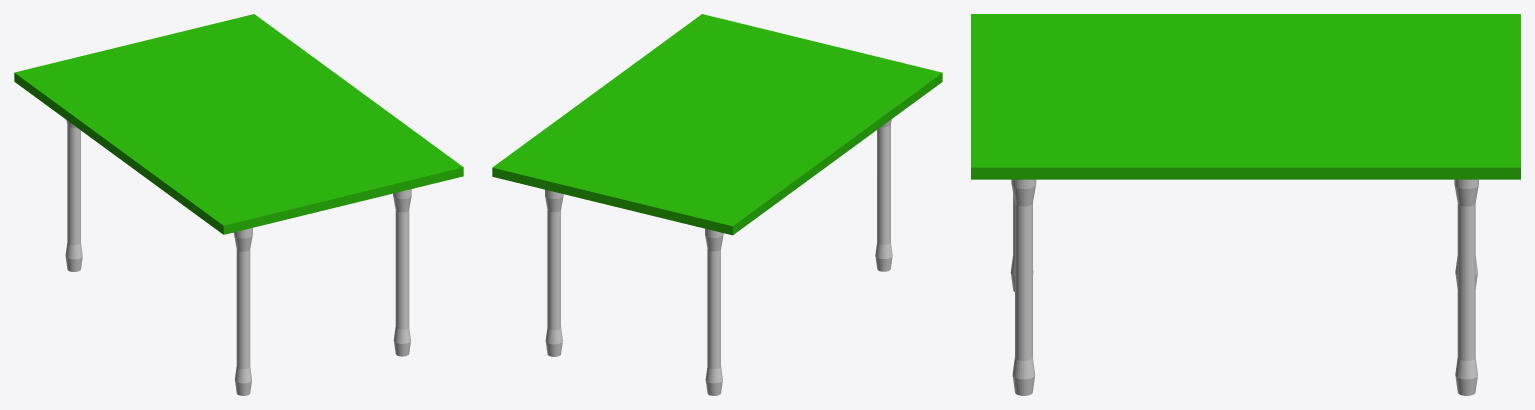
The model's file is Table.fbx.
The picture shows the model from 3 angles, left to right: view 1: azimuth 30°, elevation 25°; view 2: azimuth 150°, elevation 25°; view 3: azimuth 270°, elevation 25°; orthographic projection. The views are drawn at different scales.
Visible parts, largest first — view 1: Cube.001, Cylinder.003, Cylinder.001, Cylinder.002; view 2: Cube.001, Cylinder.002, Cylinder, Cylinder.003; view 3: Cube.001, Cylinder, Cylinder.001.
Part boxes in pixels (<box>): Cube.001: <box>14,14,463,234</box>; Cylinder.003: <box>234,228,252,395</box>; Cylinder.001: <box>393,189,411,356</box>; Cylinder.002: <box>65,120,82,271</box>; Cube.001: <box>492,14,942,235</box>; Cylinder.002: <box>705,228,723,395</box>; Cylinder: <box>545,189,563,356</box>; Cylinder.003: <box>875,119,892,271</box>; Cube.001: <box>971,14,1520,179</box>; Cylinder: <box>1454,179,1478,395</box>; Cylinder.001: <box>1011,179,1036,395</box>.
Bounding box in the file's own units: 420 × 319 × 634.
